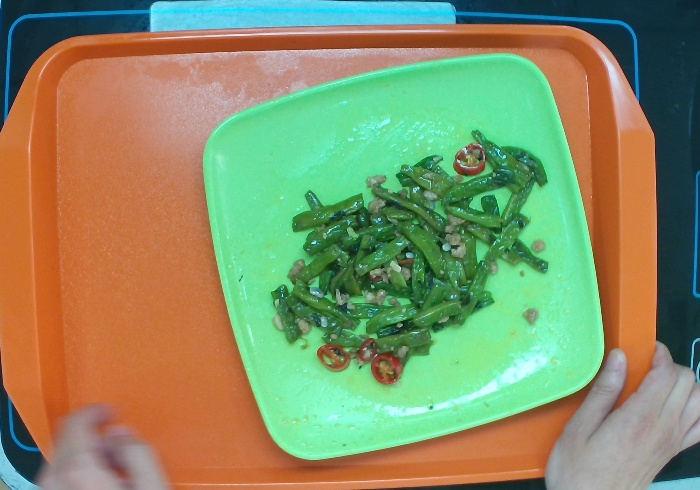ZNLD-Lv_Fang_Pan: (200, 51, 608, 460)
